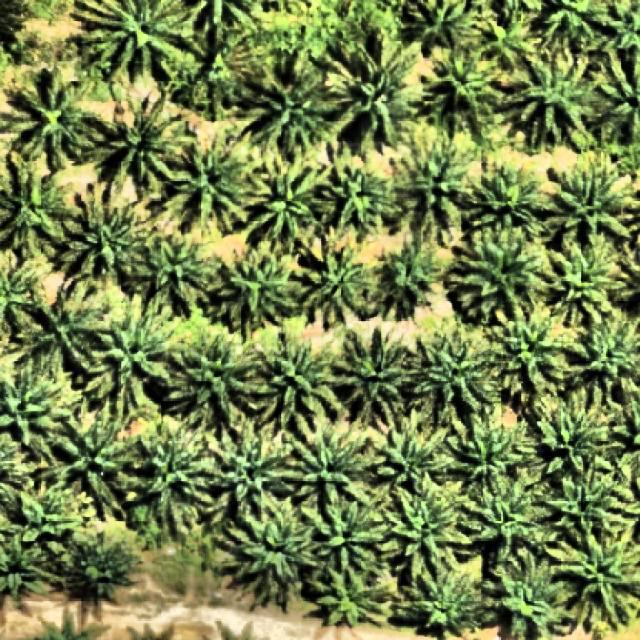Kelapa_Sawit: (234, 48, 352, 164), (164, 326, 282, 434), (91, 79, 195, 198), (323, 31, 423, 154), (1, 64, 102, 172), (124, 420, 216, 538), (246, 334, 345, 442), (49, 395, 134, 520), (201, 422, 296, 533), (445, 231, 553, 326), (276, 416, 378, 516), (82, 308, 178, 414), (218, 511, 320, 607), (12, 278, 110, 377), (60, 186, 156, 286), (214, 241, 310, 341), (412, 326, 506, 428), (330, 322, 416, 433), (416, 39, 510, 139), (383, 472, 472, 577), (169, 135, 266, 231), (512, 48, 602, 150), (547, 528, 640, 626), (242, 150, 333, 248), (444, 412, 538, 506), (488, 302, 574, 401), (528, 395, 628, 477), (546, 231, 632, 326), (396, 140, 478, 236), (552, 152, 640, 240), (298, 238, 382, 330), (367, 415, 456, 500), (142, 229, 224, 320), (461, 486, 556, 562), (374, 229, 450, 322), (540, 462, 626, 542), (52, 532, 142, 608), (468, 160, 552, 234), (310, 497, 388, 574), (312, 564, 400, 632), (323, 156, 397, 236), (404, 567, 484, 640), (12, 484, 74, 552)
